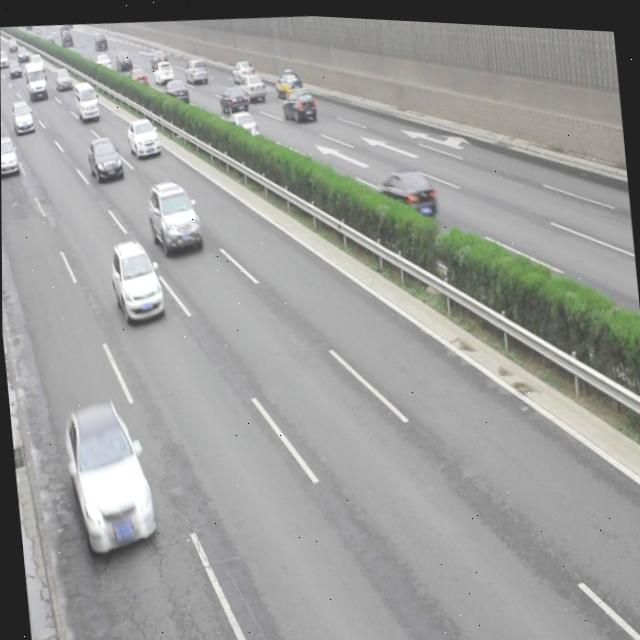car: (61, 395, 158, 560), (108, 233, 166, 328), (144, 173, 204, 259), (373, 159, 437, 223), (86, 132, 124, 185), (125, 113, 161, 163), (281, 82, 317, 122), (225, 105, 259, 146), (218, 79, 249, 114), (238, 66, 267, 102), (1, 133, 21, 181), (274, 66, 303, 97)
